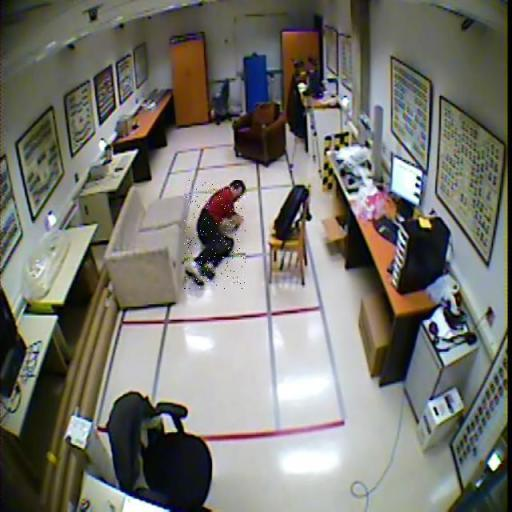Fall: (184, 181, 246, 290)
